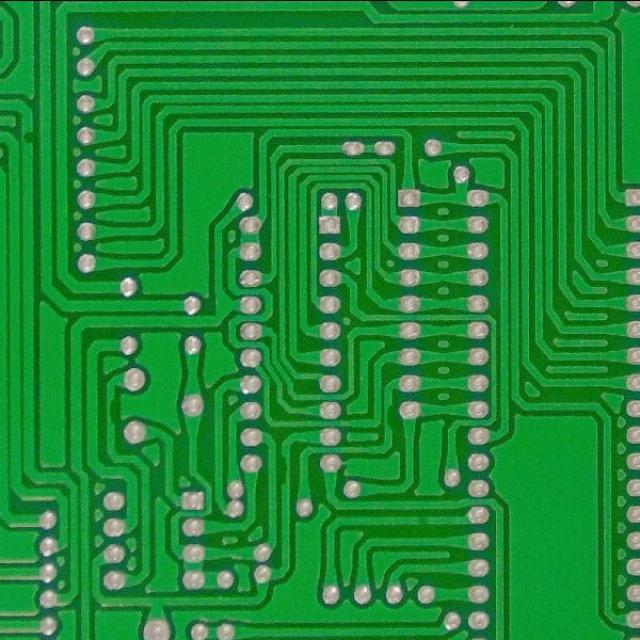MouseBite: (278, 450, 296, 492), (104, 395, 120, 430), (19, 126, 36, 149), (384, 401, 396, 425)
